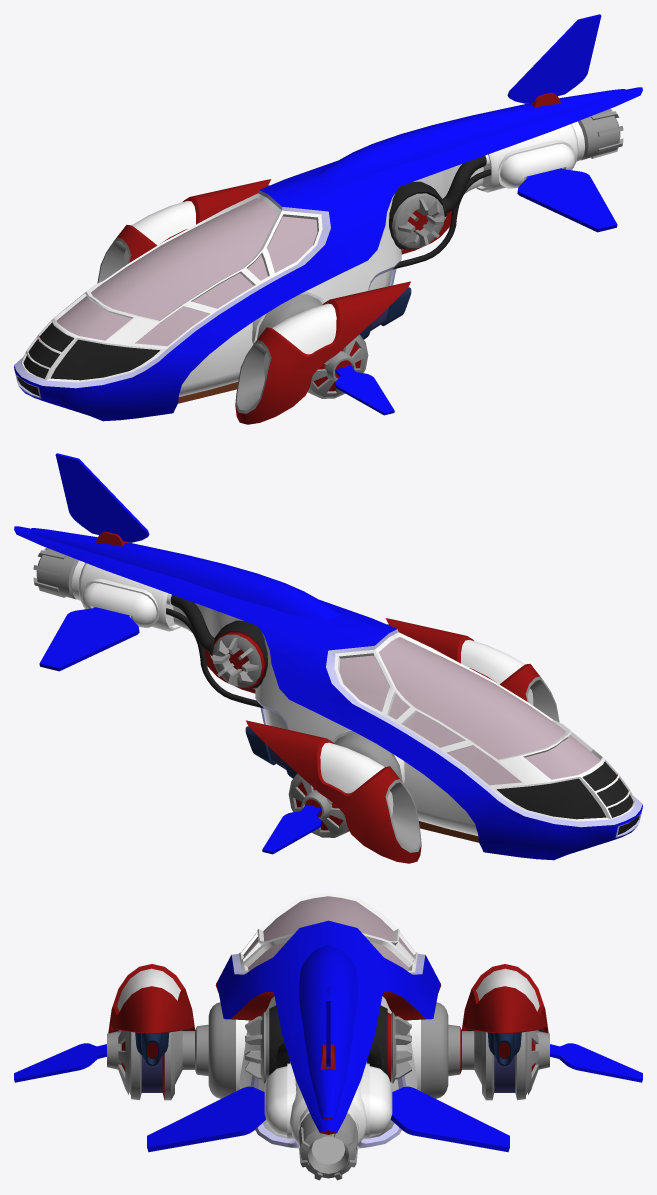
The model's file is NewShip.obj.
3 renders of one model, top to bottom at view 1: azimuth 30°, elevation 25°; view 2: azimuth 150°, elevation 25°; view 3: azimuth 270°, elevation 25°, orthographic. The views are drawn at different scales.
Visible parts, largest first — view 1: UpperChassis, WindShield, WingCovers, Tummy, WindowFrame, FrontPlates, Tank, WingPads, Lists, WingThings, WingOpenings, Flenses (+5 smaller); view 2: UpperChassis, WindShield, WingCovers, Tummy, WindowFrame, FrontPlates, Tank, WingPads, Lists, WingThings, WingOpenings, Flenses (+5 smaller); view 3: UpperChassis, WingThings, WingCovers, Tank, WindShield, Detail, Flenses, WindowFrame, Exhaust, WingPads, Tummy, WingStuff (+5 smaller).
Boxes of the visible parts, bbox=[...] form: UpperChassis: bbox=[14, 14, 642, 421]; WindShield: bbox=[56, 198, 317, 346]; WingCovers: bbox=[115, 179, 410, 424]; Tummy: bbox=[178, 164, 483, 396]; WindowFrame: bbox=[21, 193, 322, 382]; FrontPlates: bbox=[17, 322, 159, 395]; Tank: bbox=[476, 121, 585, 192]; WingPads: bbox=[132, 201, 336, 354]; Lists: bbox=[14, 190, 400, 398]; WingThings: bbox=[257, 294, 368, 398]; WingOpenings: bbox=[97, 237, 271, 413]; Flenses: bbox=[392, 193, 444, 248]; UpperChassis: bbox=[14, 453, 642, 860]; WindShield: bbox=[339, 637, 600, 785]; WingCovers: bbox=[246, 618, 541, 863]; Tummy: bbox=[173, 603, 478, 835]; WindowFrame: bbox=[334, 632, 635, 821]; FrontPlates: bbox=[497, 761, 639, 834]; Tank: bbox=[71, 560, 180, 631]; WingPads: bbox=[320, 640, 524, 793]; Lists: bbox=[256, 629, 642, 837]; WingThings: bbox=[288, 733, 399, 837]; WingOpenings: bbox=[385, 676, 559, 852]; Flenses: bbox=[212, 634, 261, 687]; UpperChassis: bbox=[14, 920, 642, 1152]; WingThings: bbox=[107, 1002, 549, 1100]; WingCovers: bbox=[108, 964, 548, 1033]; Tank: bbox=[264, 1061, 392, 1146]; WindShield: bbox=[243, 896, 413, 970]; Detail: bbox=[121, 984, 535, 1134]; Flenses: bbox=[245, 1012, 411, 1083]; WindowFrame: bbox=[239, 892, 417, 972]; Exhaust: bbox=[299, 1113, 357, 1180]; WingPads: bbox=[117, 968, 539, 1011]; Tummy: bbox=[236, 996, 420, 1148]; WingStuff: bbox=[114, 1029, 542, 1065].
Bounding box in the file's own units: 32.94 × 13.46 × 22.94.
